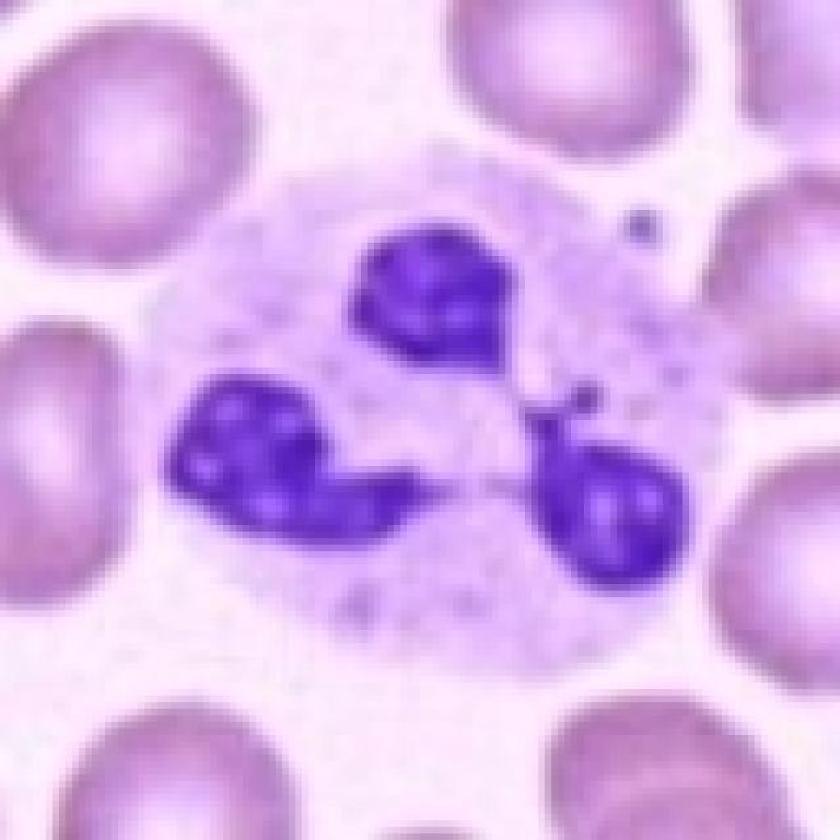neutrophil: (124, 147, 732, 697)
